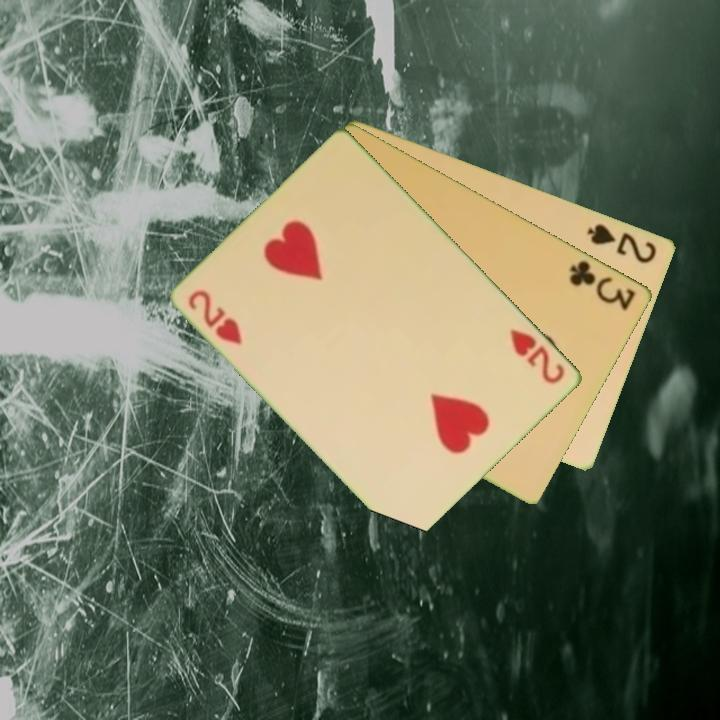2h: (507, 325, 568, 387), (185, 286, 246, 348)
2s: (583, 219, 660, 266)
3c: (566, 256, 639, 314)
